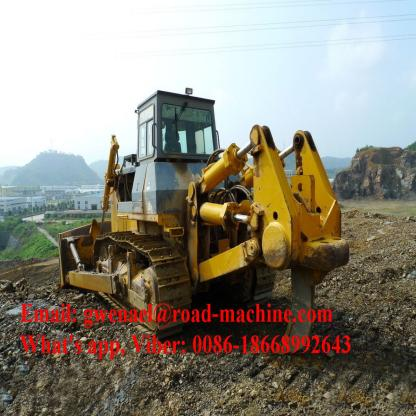bull_dozer/loader/grader: (47, 81, 371, 354)
